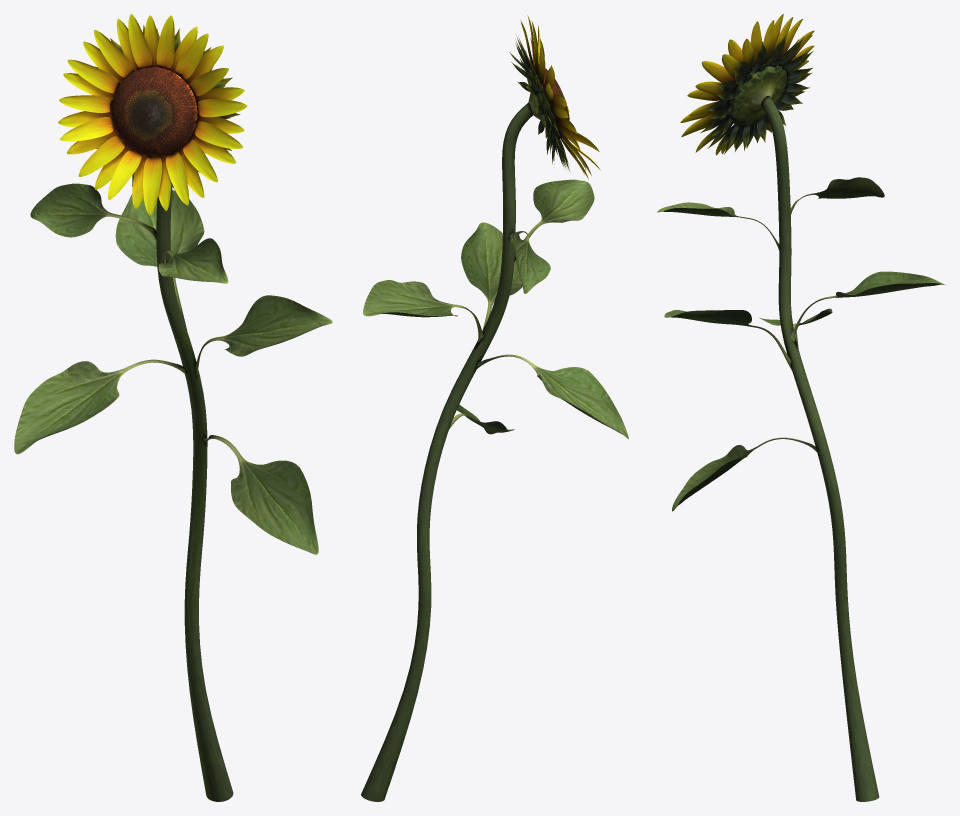
Rendered from sunflower.glb.
3 views of the same model, side by side, from view 1: azimuth 30°, elevation 25°; view 2: azimuth 150°, elevation 25°; view 3: azimuth 270°, elevation 25° (orthographic). The views are drawn at different scales.
Parts seen in each view (by area): view 1: sunflower; view 2: sunflower; view 3: sunflower.
Part boxes in pixels (x1,y1,x2,y2): sunflower: (14, 14, 332, 801); sunflower: (361, 15, 628, 801); sunflower: (657, 14, 945, 801).
Size of the model in its own units: 1.36 by 4.33 by 1.55.
Materials: 1 (1 with a texture image).
